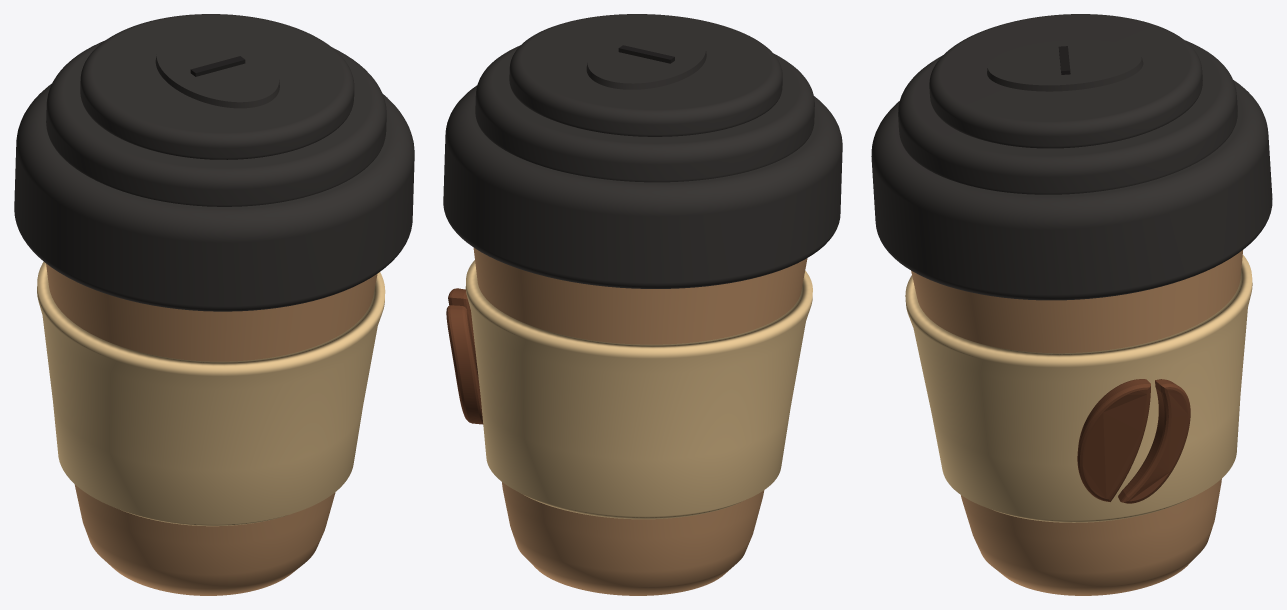
File: reusable-coffee-cup.glb
3 renders of one model, left to right at view 1: azimuth 30°, elevation 25°; view 2: azimuth 150°, elevation 25°; view 3: azimuth 270°, elevation 25°, orthographic.
Parts seen in each view (by area): view 1: cup_sleeve, lid_flange, cup_body, lid_top, lid_step, lid_sip_pad; view 2: cup_sleeve, lid_flange, cup_body, lid_top, lid_step, lid_sip_pad, bean_lobe_2, bean_lobe_1; view 3: lid_flange, cup_sleeve, cup_body, lid_top, lid_step, lid_sip_pad, bean_lobe_1, bean_lobe_2.
Part boxes in pixels (<box>): cup_sleeve: <box>37,262,385,526</box>; lid_flange: <box>14,83,414,311</box>; cup_body: <box>46,263,377,595</box>; lid_top: <box>80,14,354,159</box>; lid_step: <box>46,40,386,206</box>; lid_sip_pad: <box>155,34,279,108</box>; cup_sleeve: <box>465,260,812,519</box>; lid_flange: <box>443,85,842,288</box>; cup_body: <box>473,248,807,595</box>; lid_top: <box>509,14,782,136</box>; lid_step: <box>475,45,814,182</box>; lid_sip_pad: <box>586,29,706,89</box>; bean_lobe_2: <box>446,305,483,424</box>; bean_lobe_1: <box>448,288,478,377</box>; lid_flange: <box>871,80,1272,300</box>; cup_sleeve: <box>905,254,1252,522</box>; cup_body: <box>911,250,1242,595</box>; lid_top: <box>929,14,1202,148</box>; lid_step: <box>898,40,1237,194</box>; lid_sip_pad: <box>987,39,1143,91</box>; bean_lobe_1: <box>1077,379,1150,501</box>; bean_lobe_2: <box>1118,379,1190,503</box>.
Size of the model in its own units: 0.112 by 0.157 by 0.113.
